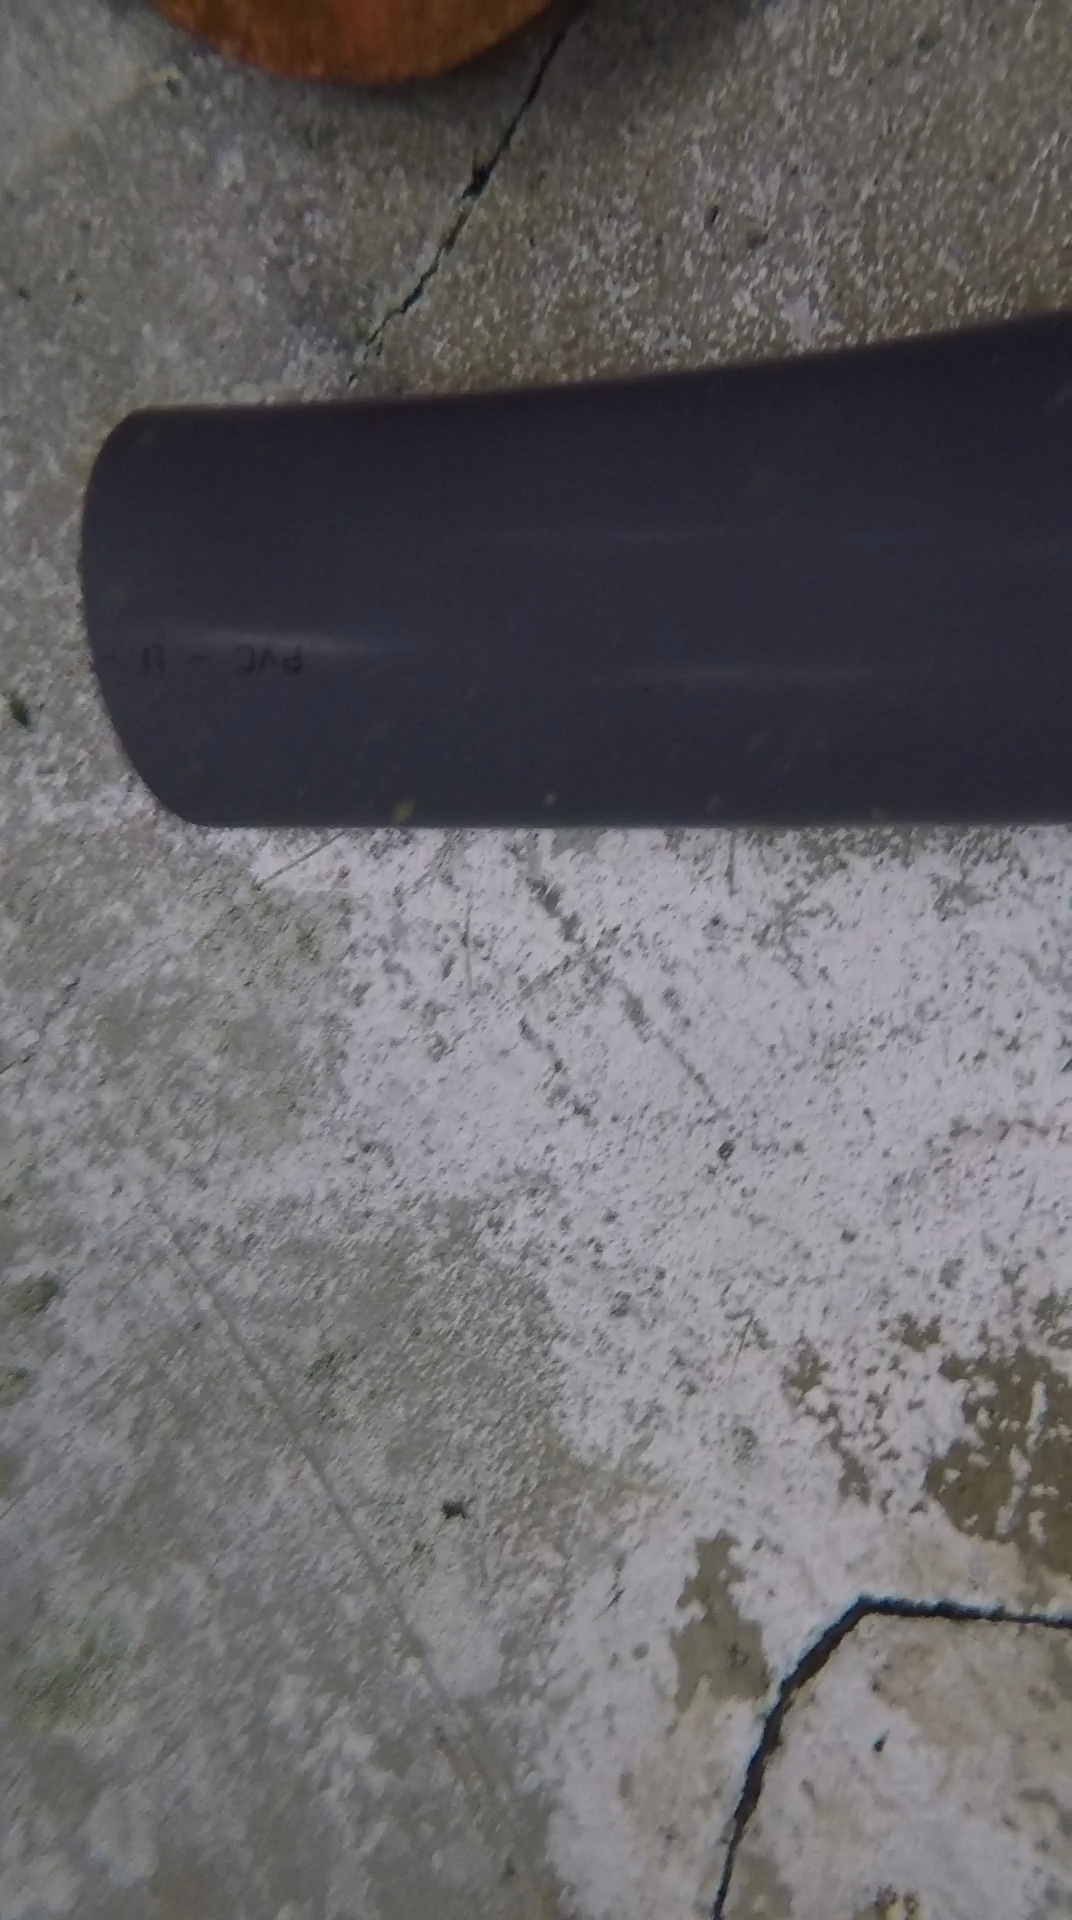flange: (142, 1, 575, 92)
pipe: (79, 313, 1072, 829)
